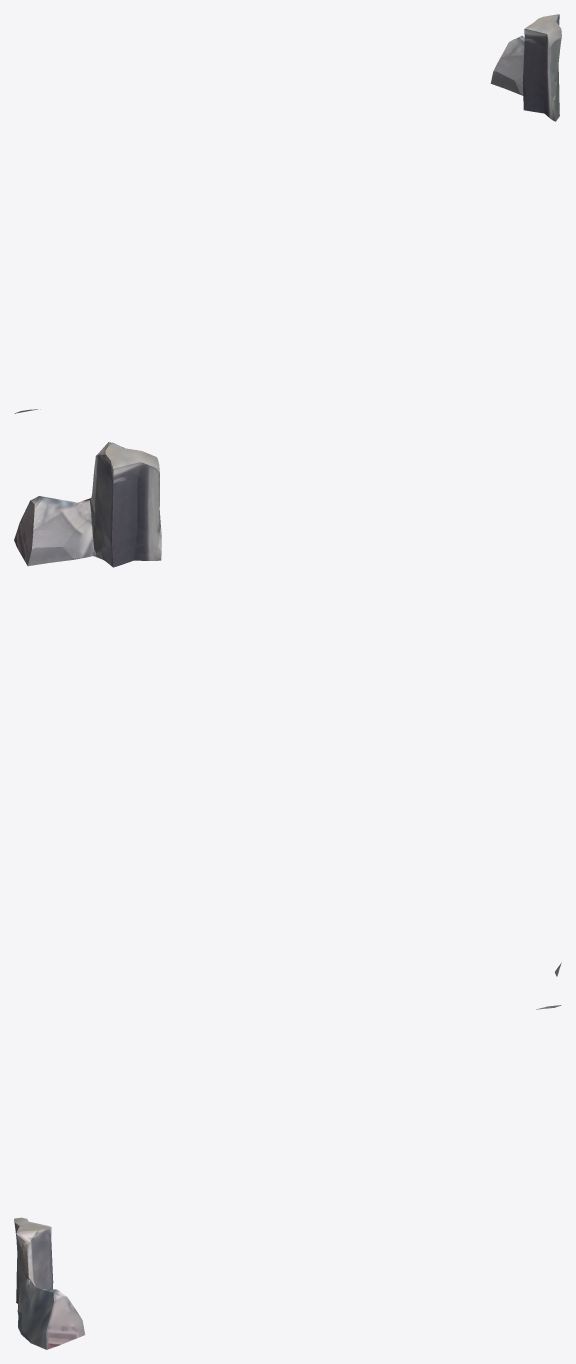
3 views of the same model, one above another, from view 1: azimuth 90°, elevation 25°; view 2: azimuth 150°, elevation 25°; view 3: azimuth 270°, elevation 25° (orthographic). The views are drawn at different scales.
Size of the model in its own units: 2.86 by 0.3343 by 1.92.
1 material, 1 textured.
